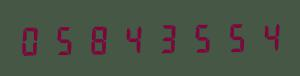eight: (83, 21, 115, 56)
five: (50, 21, 82, 57), (215, 18, 247, 54), (182, 19, 214, 54)
four: (116, 20, 148, 56), (248, 18, 280, 53)
three: (149, 20, 181, 55)
zero: (17, 22, 49, 57)
